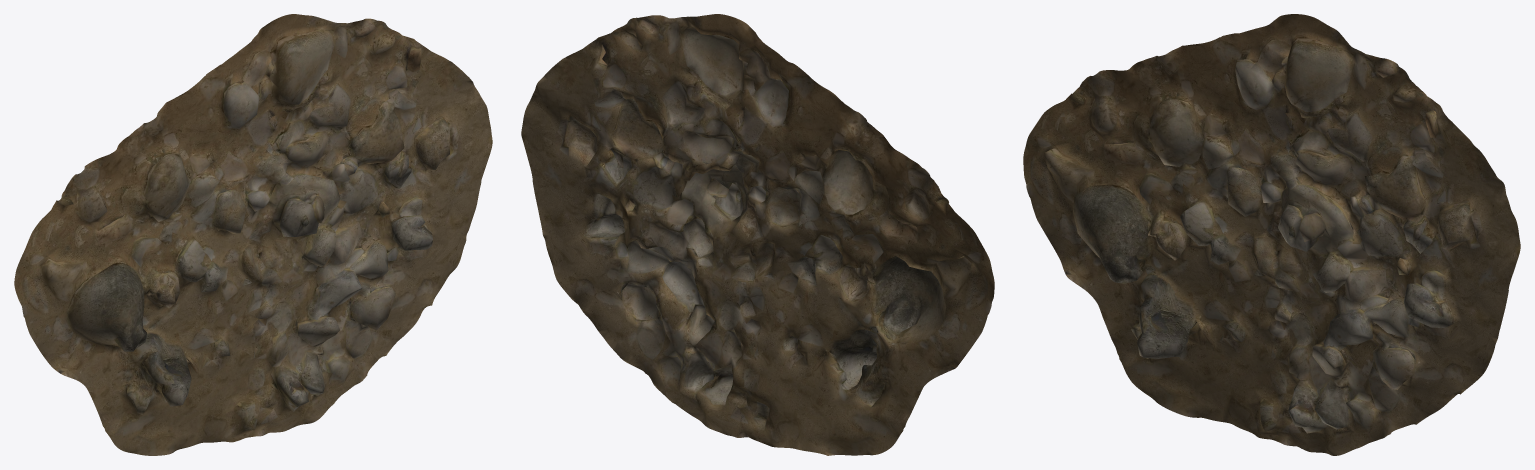
File: sand_rocks.glb
3 views of the same model, side by side, from view 1: azimuth 30°, elevation 25°; view 2: azimuth 150°, elevation 25°; view 3: azimuth 330°, elevation 25° (orthographic). The views are drawn at different scales.
Parts seen in each view (by area): view 1: sand_rocks; view 2: sand_rocks; view 3: sand_rocks.
Boxes of the visible parts, left/top/right/bottom form: sand_rocks: left=14, top=14, right=492, bottom=455; sand_rocks: left=521, top=14, right=994, bottom=455; sand_rocks: left=1023, top=14, right=1520, bottom=455.
Bounding box in the file's own units: 4.63 × 3.88 × 0.5326.
1 material, 1 textured.
